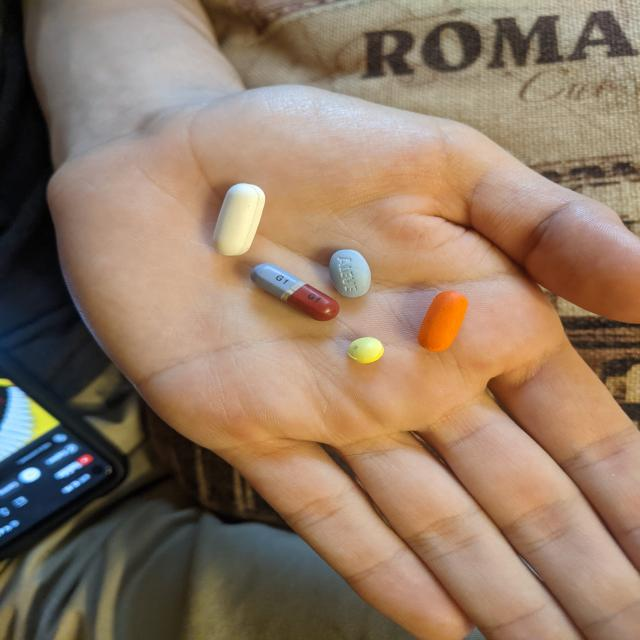non-organic waste: (250, 262, 341, 323), (210, 181, 266, 257), (416, 289, 469, 353), (327, 248, 373, 298), (346, 336, 386, 364)
